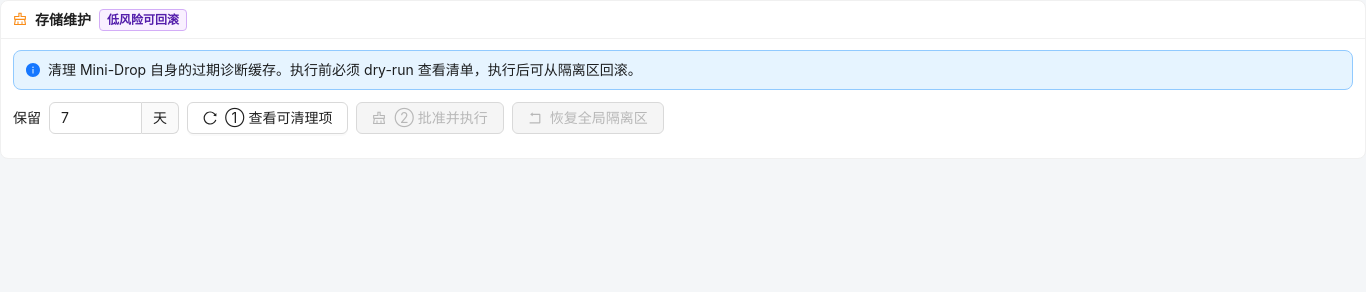
Scenario: StorageMaintenance › invalidates an approved dry-run when retention changes
This screenshot has width=1366, height=292.
Expected: the button "② 批准并执行" is disabled, [356, 102, 504, 134]
Expected: the button "恢复全局隔离区" is disabled, [512, 102, 664, 134]
Click the button "① 查看可清理项" at [268, 118], box [187, 102, 348, 134]
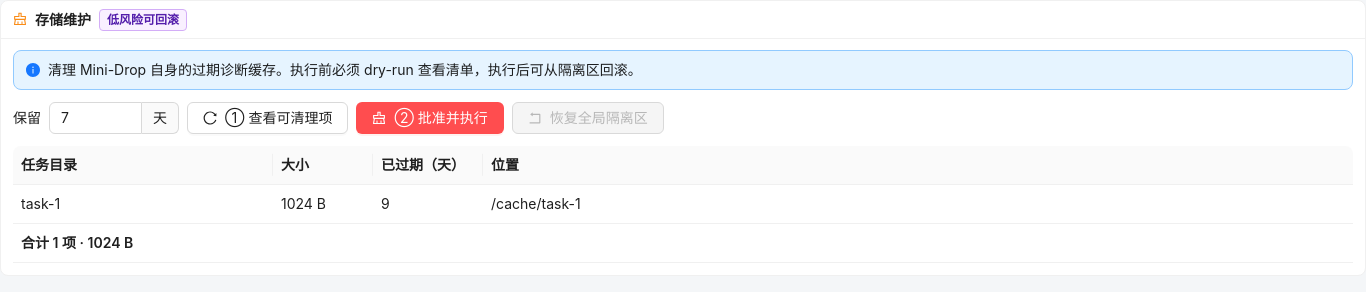
Expected: the button "② 批准并执行" is enabled, [356, 102, 504, 134]
Expected: the text "task-1" is shown, [13, 185, 273, 224]
Replace the text in the number field with "30" at [96, 118], box [50, 103, 141, 133]
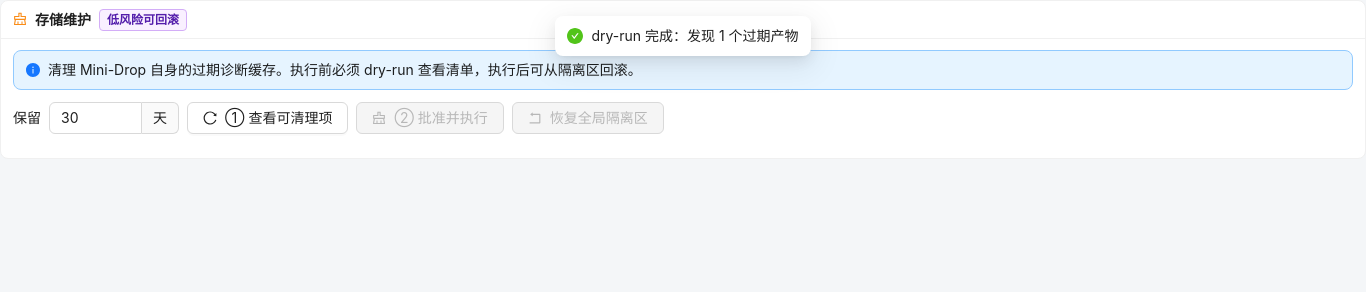
Expected: the button "② 批准并执行" is disabled, [356, 102, 504, 134]
Expected: the text "task-1" is gone
